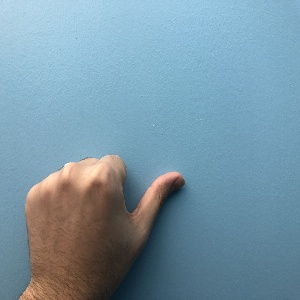hand: (25, 153, 184, 281)
